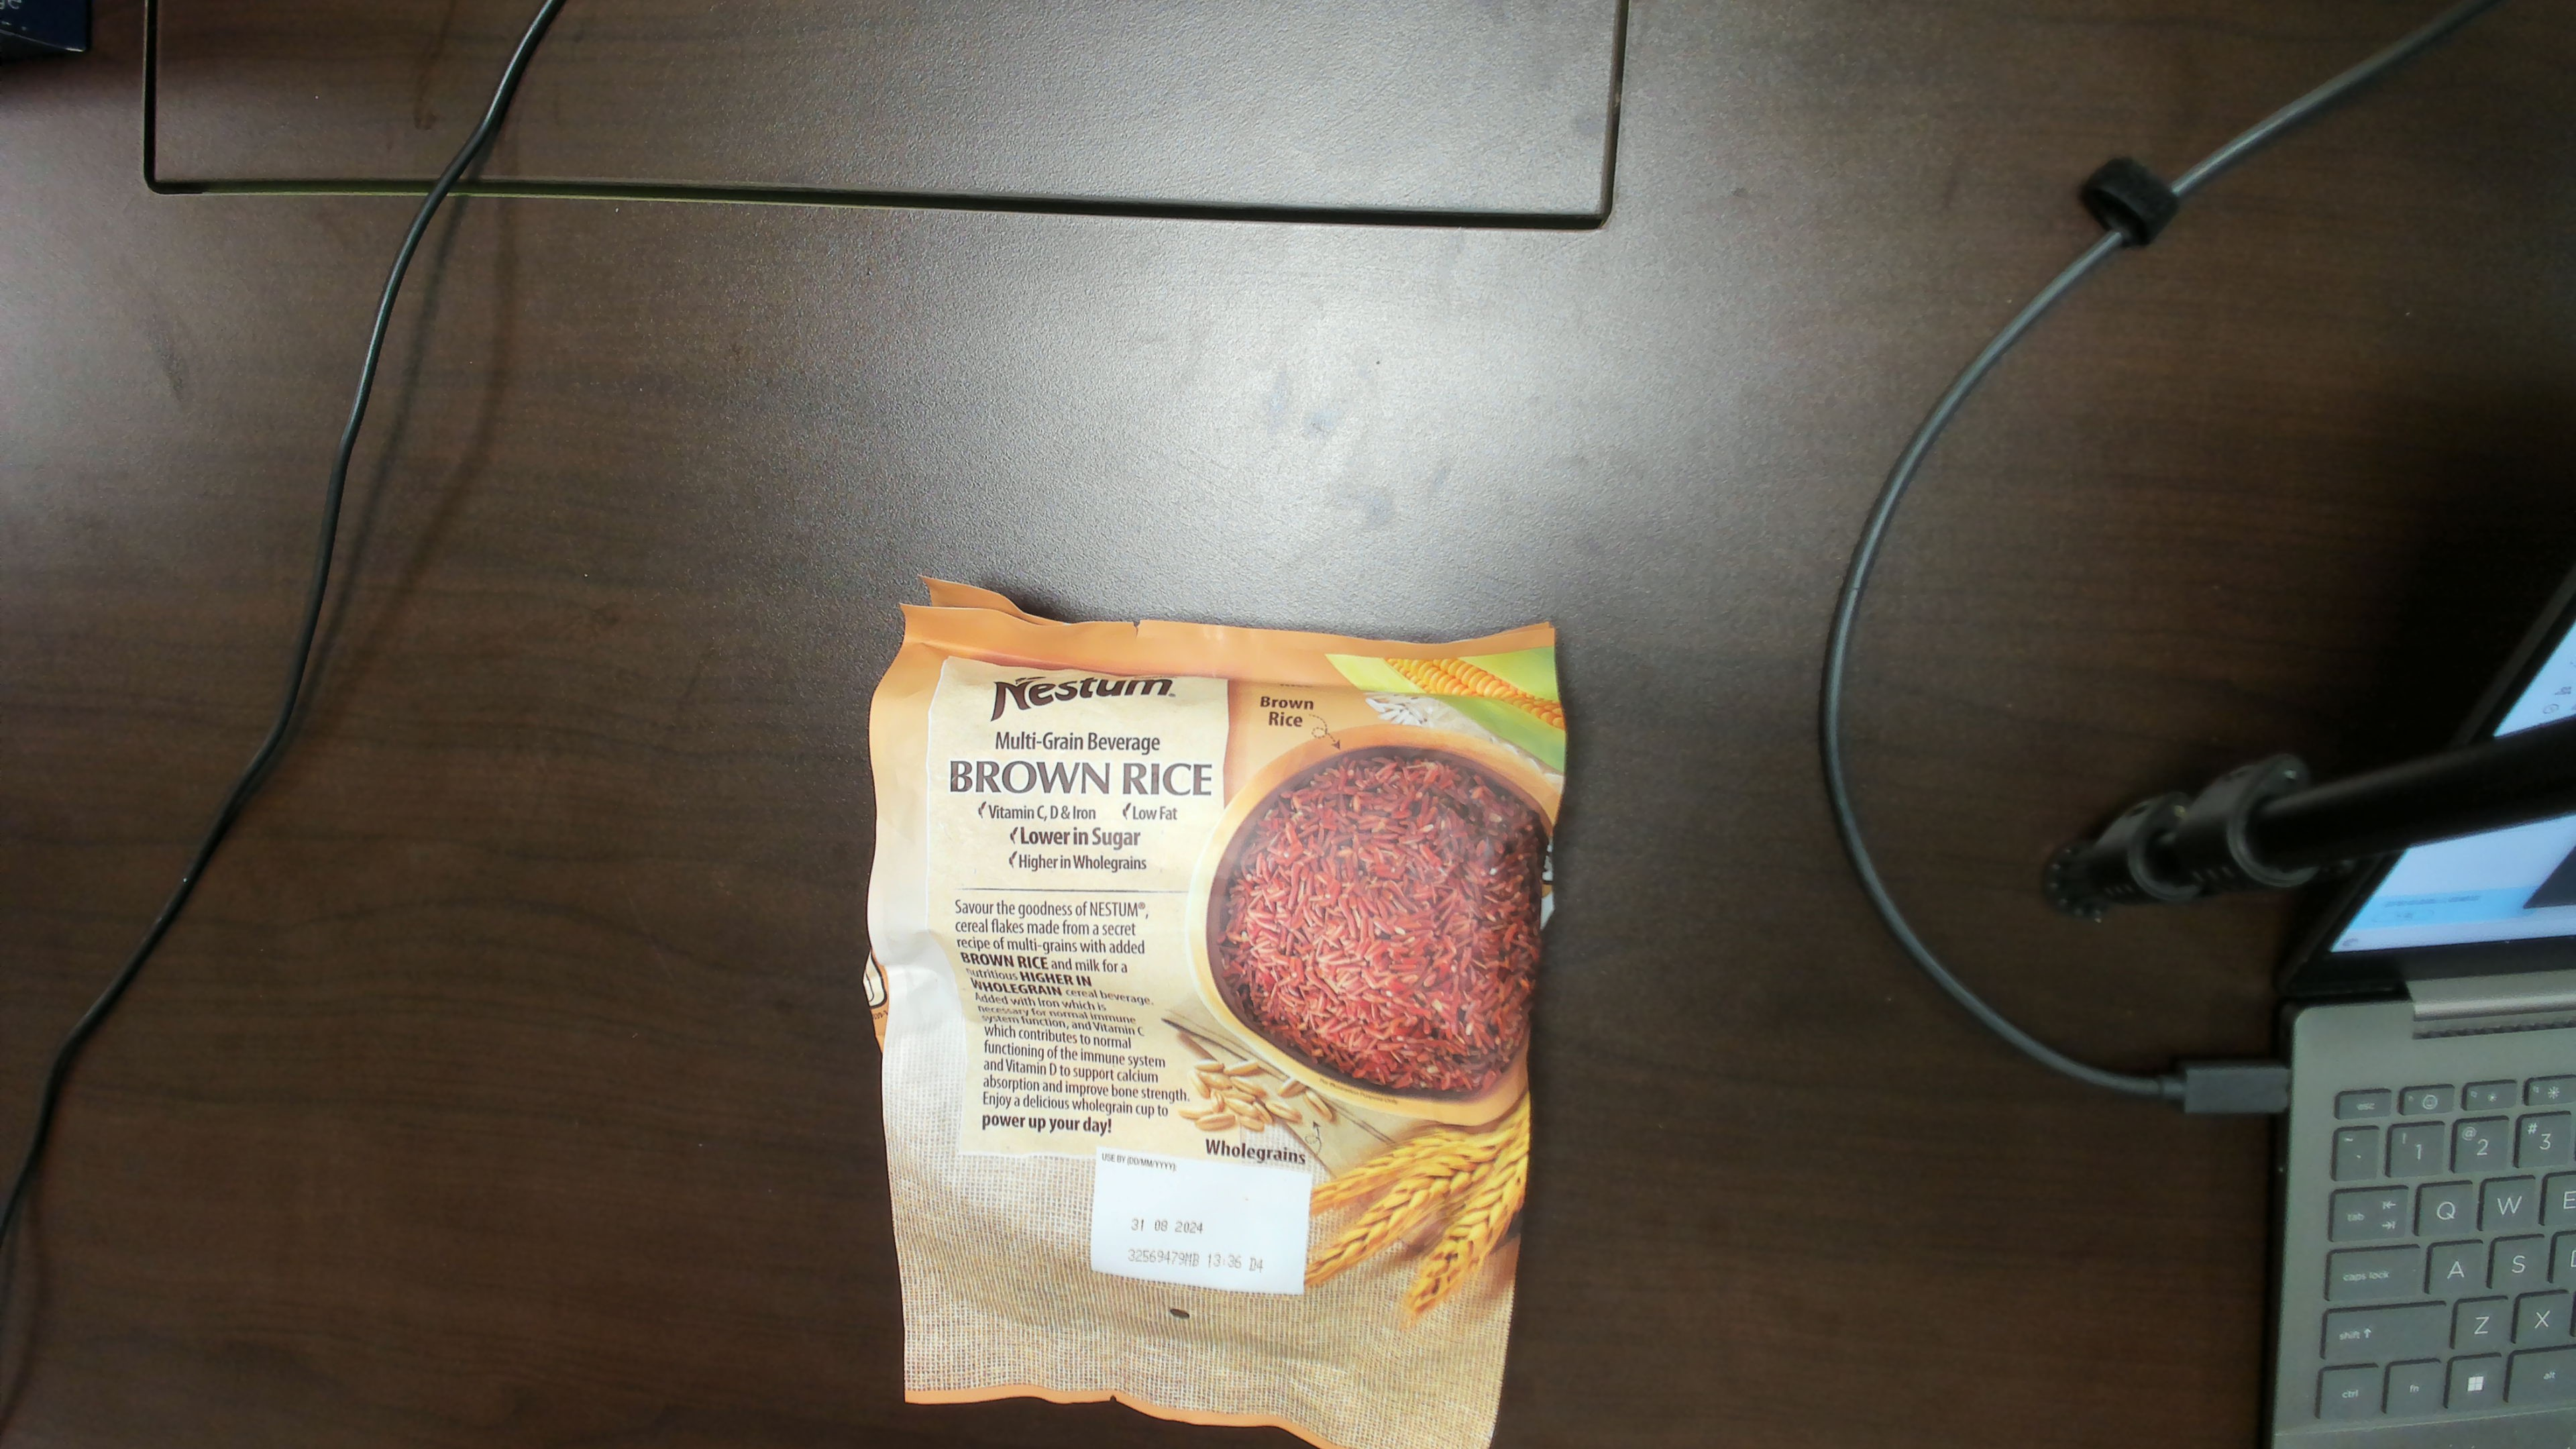CerealBeverage-powder_300-399g_NonHalal_Healthy: (936, 674, 1507, 1304)
